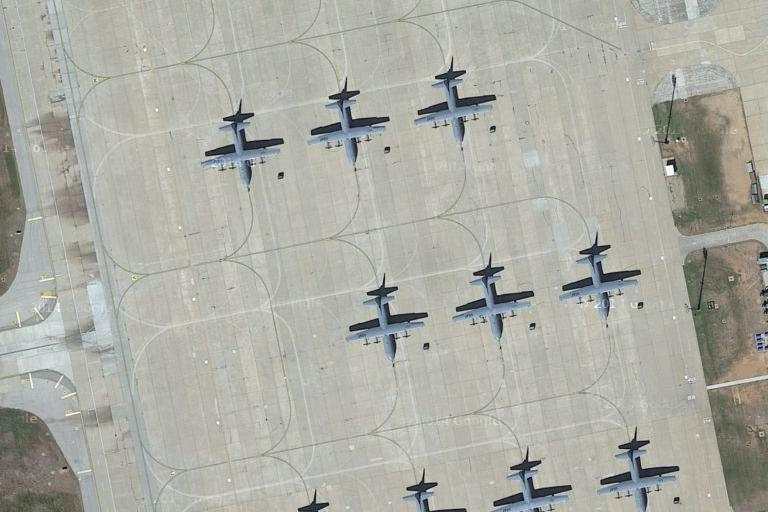C-130: (197, 120, 283, 192), (307, 97, 390, 170), (451, 272, 535, 344), (344, 294, 429, 364), (413, 77, 495, 148), (592, 445, 678, 512), (557, 252, 639, 322), (493, 464, 569, 512)
